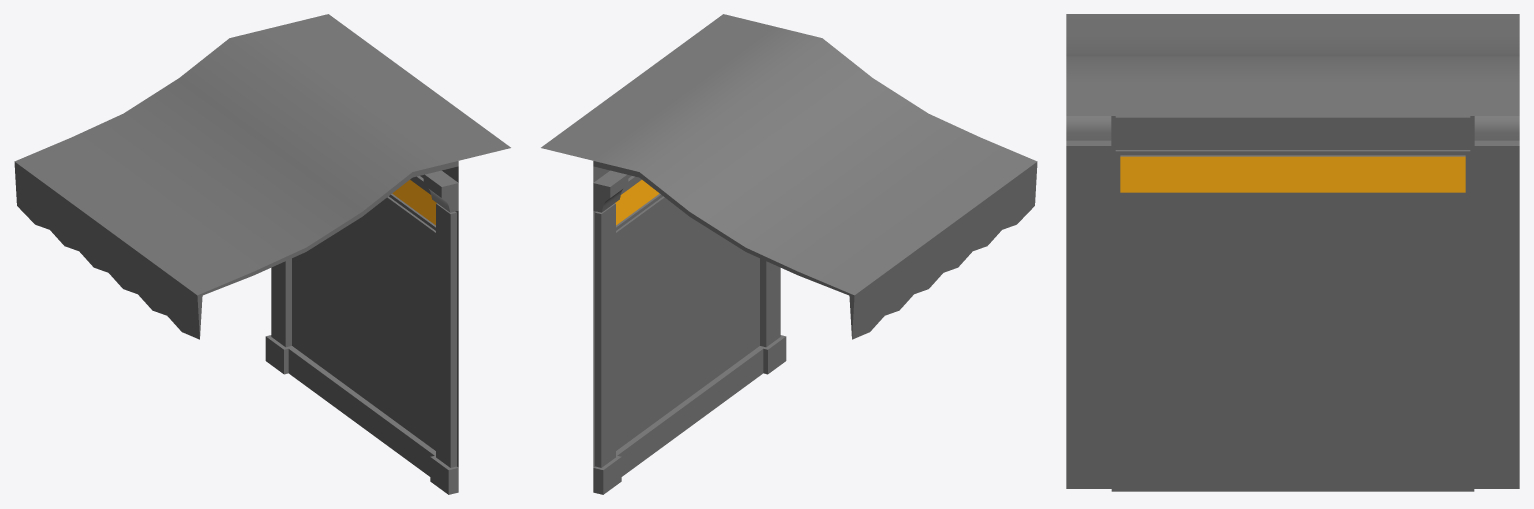
File: O5_Façade_boutique_pilllier_Renfoncement_Tonnelle.fbx
The picture shows the model from 3 angles, left to right: view 1: azimuth 30°, elevation 25°; view 2: azimuth 150°, elevation 25°; view 3: azimuth 270°, elevation 25°; orthographic projection. The views are drawn at different scales.
Parts seen in each view (by area): view 1: O_Façade_boutique_pilllier_Renfoncement_Tonnelle001; view 2: O_Façade_boutique_pilllier_Renfoncement_Tonnelle001; view 3: O_Façade_boutique_pilllier_Renfoncement_Tonnelle001.
Boxes of the visible parts, x1,y1,x2,y2 form: O_Façade_boutique_pilllier_Renfoncement_Tonnelle001: (14, 14, 510, 494); O_Façade_boutique_pilllier_Renfoncement_Tonnelle001: (541, 14, 1037, 494); O_Façade_boutique_pilllier_Renfoncement_Tonnelle001: (1066, 14, 1519, 491).
Size of the model in its own units: 2.97 by 3 by 3.
